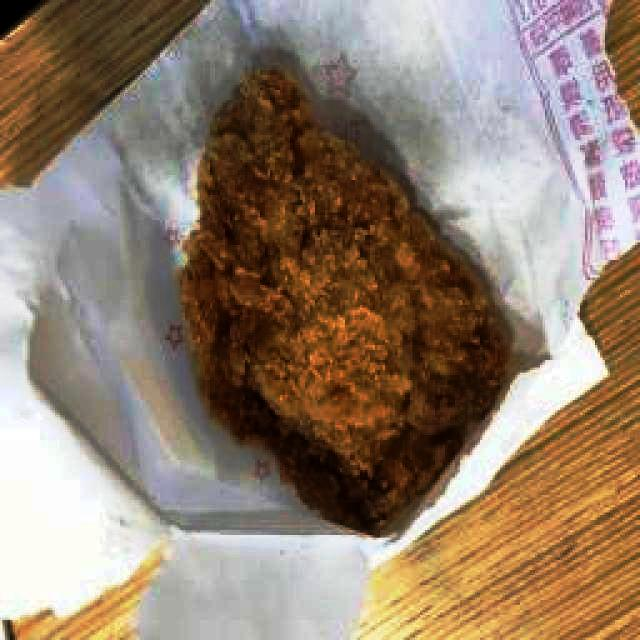fried_chicken: (180, 68, 504, 535)
